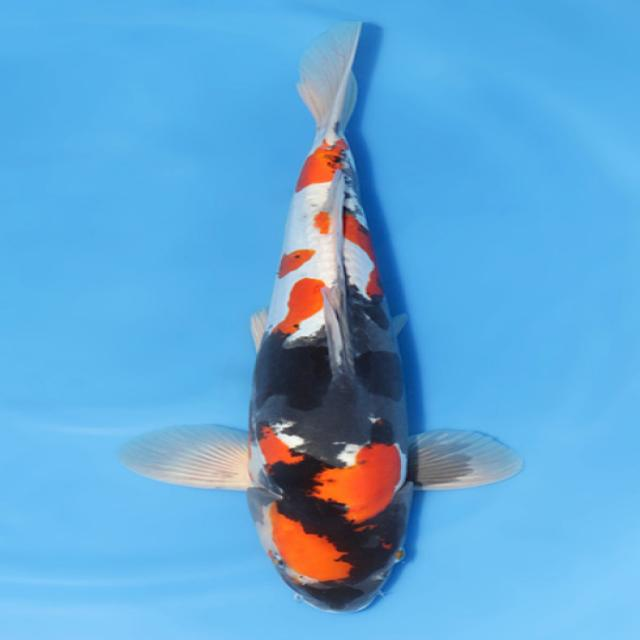Showa: (118, 19, 522, 614)
